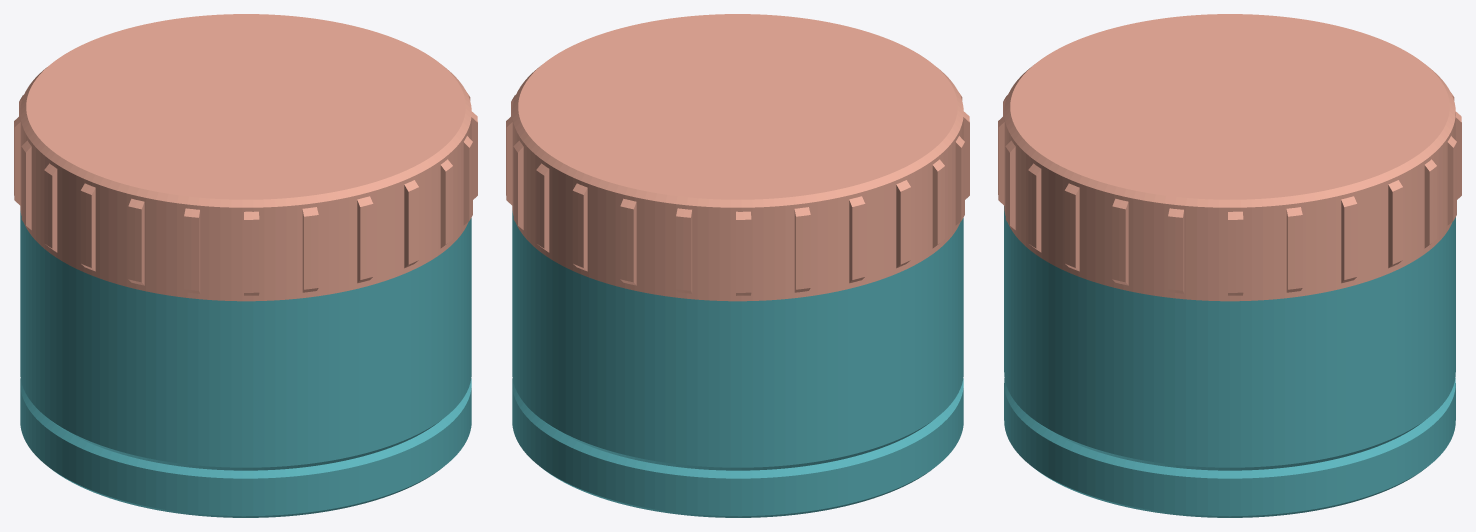
Rendered from bayonet-box_final.glb.
The picture shows the model from 3 angles, left to right: view 1: azimuth 30°, elevation 25°; view 2: azimuth 150°, elevation 25°; view 3: azimuth 270°, elevation 25°; orthographic projection.
Parts seen in each view (by area): view 1: SM_BayonetLid, SM_BayonetBox; view 2: SM_BayonetLid, SM_BayonetBox; view 3: SM_BayonetLid, SM_BayonetBox.
Part boxes in pixels (<box>): SM_BayonetLid: <box>14,14,477,301</box>; SM_BayonetBox: <box>20,211,471,517</box>; SM_BayonetLid: <box>506,14,969,301</box>; SM_BayonetBox: <box>512,211,963,517</box>; SM_BayonetLid: <box>998,14,1461,301</box>; SM_BayonetBox: <box>1004,206,1455,517</box>.
Bounding box in the file's own units: 0.0616 × 0.0465 × 0.0616.
